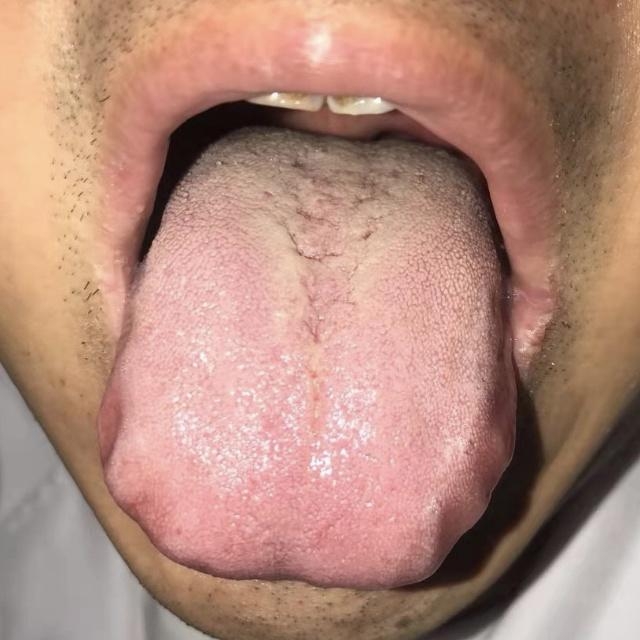baitaishe: (96, 126, 518, 592)
chihenshe: (427, 388, 518, 572), (97, 374, 147, 528)
